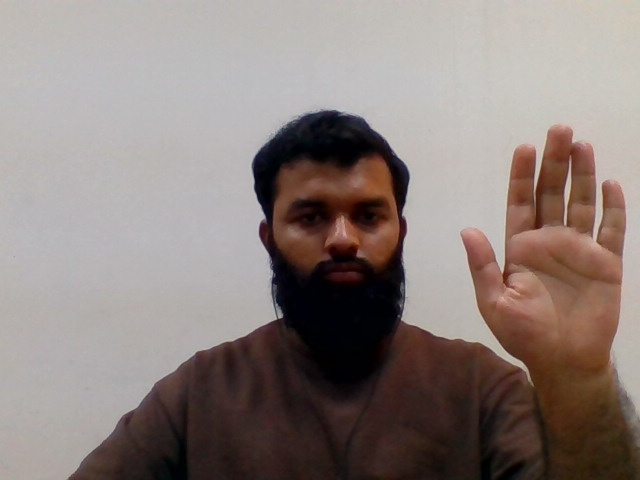Hello: (451, 121, 630, 369)
